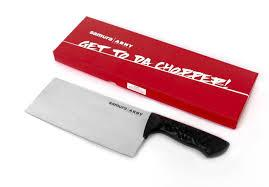Knife: (24, 76, 230, 158)
